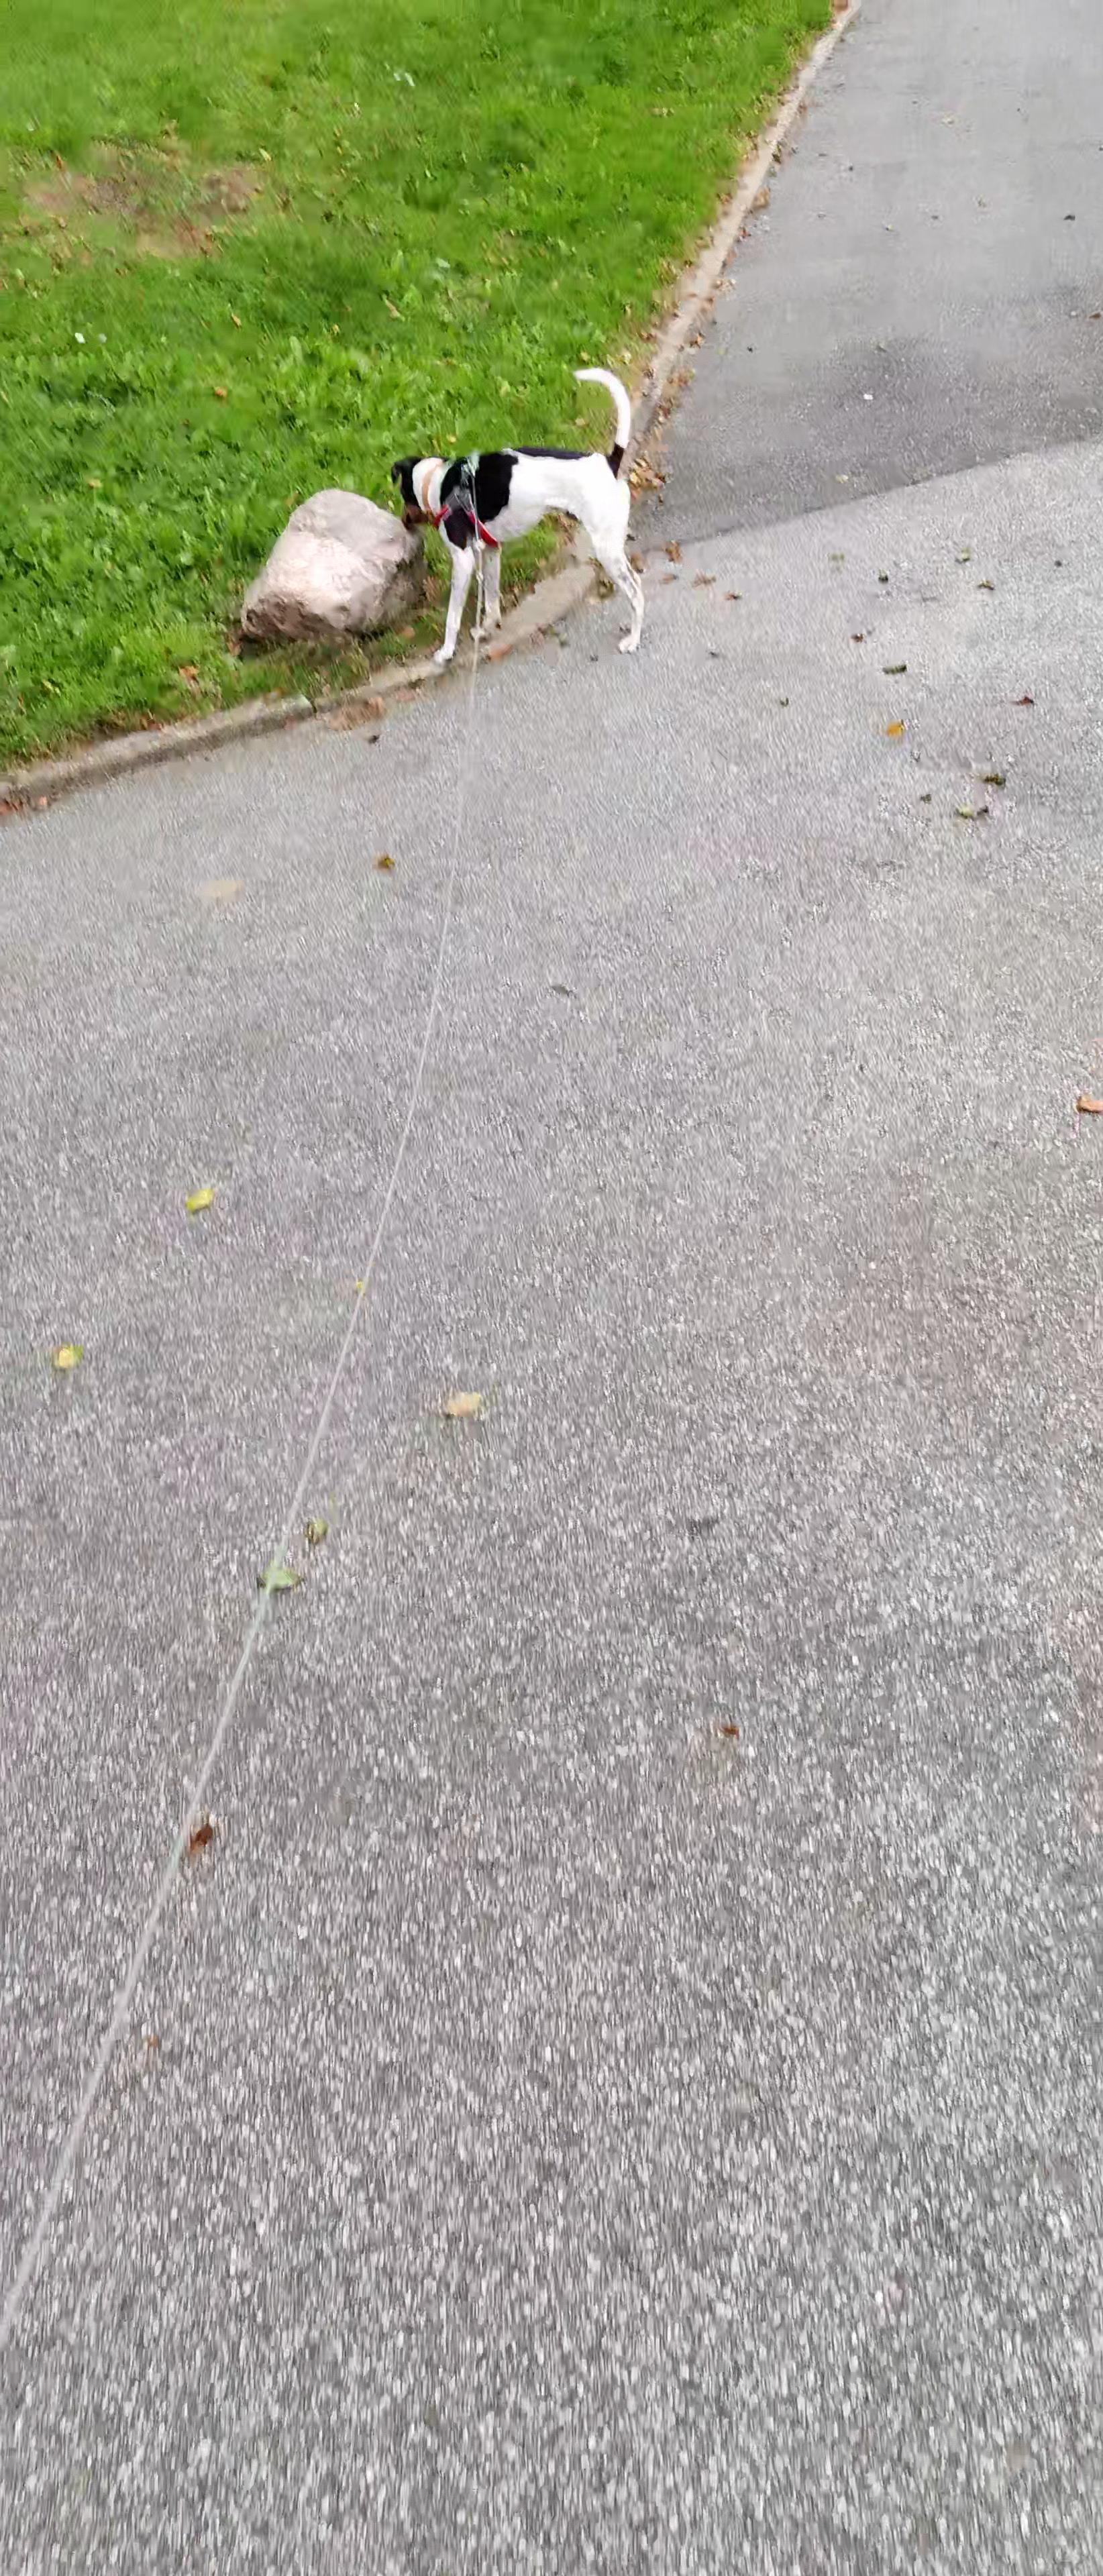Dog: (362, 363, 677, 670)
